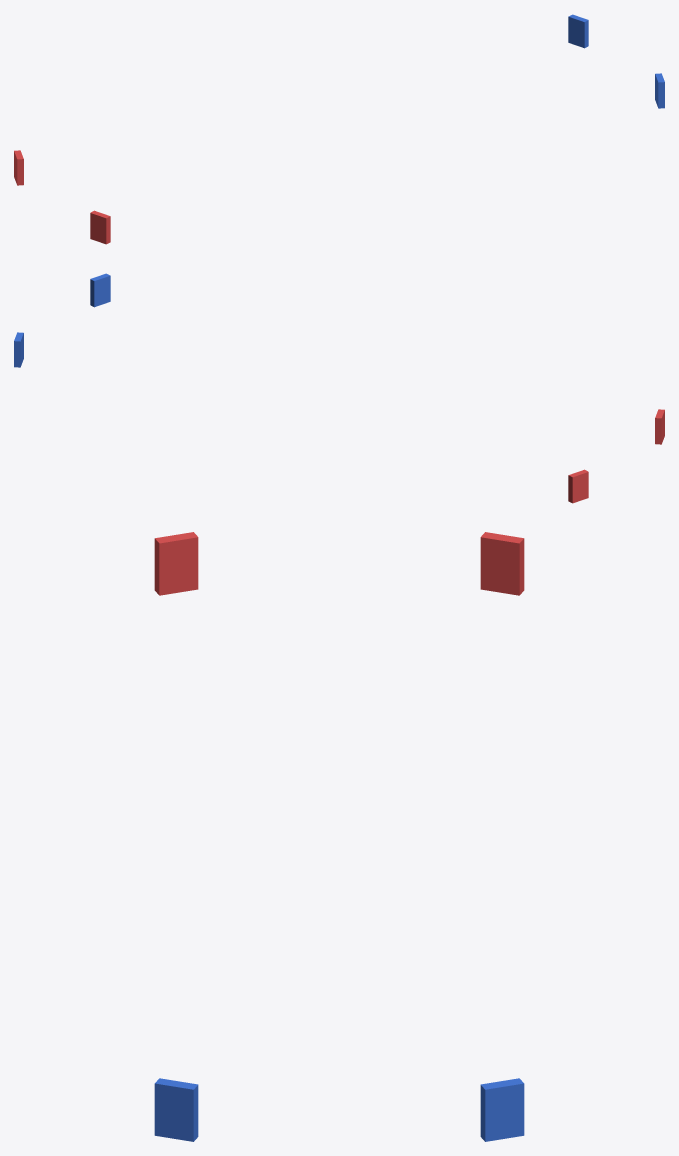
Rendered from paddle_TestTable01_kgunn.fbx.
The picture shows the model from 3 angles, top to bottom: view 1: azimuth 30°, elevation 25°; view 2: azimuth 150°, elevation 25°; view 3: azimuth 270°, elevation 25°; orthographic projection. The views are drawn at different scales.
Visible parts, largest first — view 1: paddle02_GEO_TestTable01_kgunn, paddle03_GEO_TestTable01_kgunn; view 2: paddle01_GEO_TestTable01_kgunn, paddle04_GEO_TestTable01_kgunn; view 3: paddle01_GEO_TestTable01_kgunn, paddle02_GEO_TestTable01_kgunn, paddle03_GEO_TestTable01_kgunn, paddle04_GEO_TestTable01_kgunn.
Part boxes in pixels (x1,y1,x2,y2): paddle02_GEO_TestTable01_kgunn: (90, 210, 110, 244); paddle03_GEO_TestTable01_kgunn: (568, 14, 588, 48); paddle01_GEO_TestTable01_kgunn: (568, 469, 588, 503); paddle04_GEO_TestTable01_kgunn: (90, 273, 110, 307); paddle01_GEO_TestTable01_kgunn: (480, 532, 524, 595); paddle02_GEO_TestTable01_kgunn: (154, 532, 198, 595); paddle03_GEO_TestTable01_kgunn: (480, 1078, 524, 1141); paddle04_GEO_TestTable01_kgunn: (154, 1078, 198, 1141).
Bounding box in the file's own units: 22.9 × 1 × 6.41.
